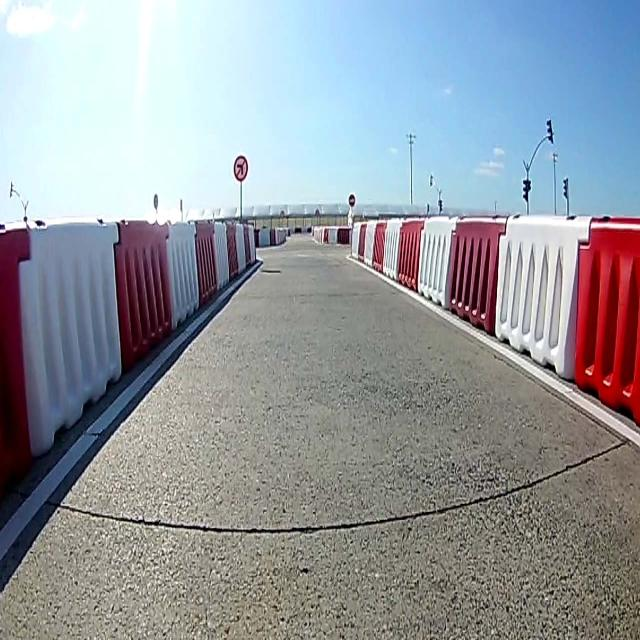girisyok: (348, 195, 356, 207)
soladonulmez: (234, 155, 248, 182)
